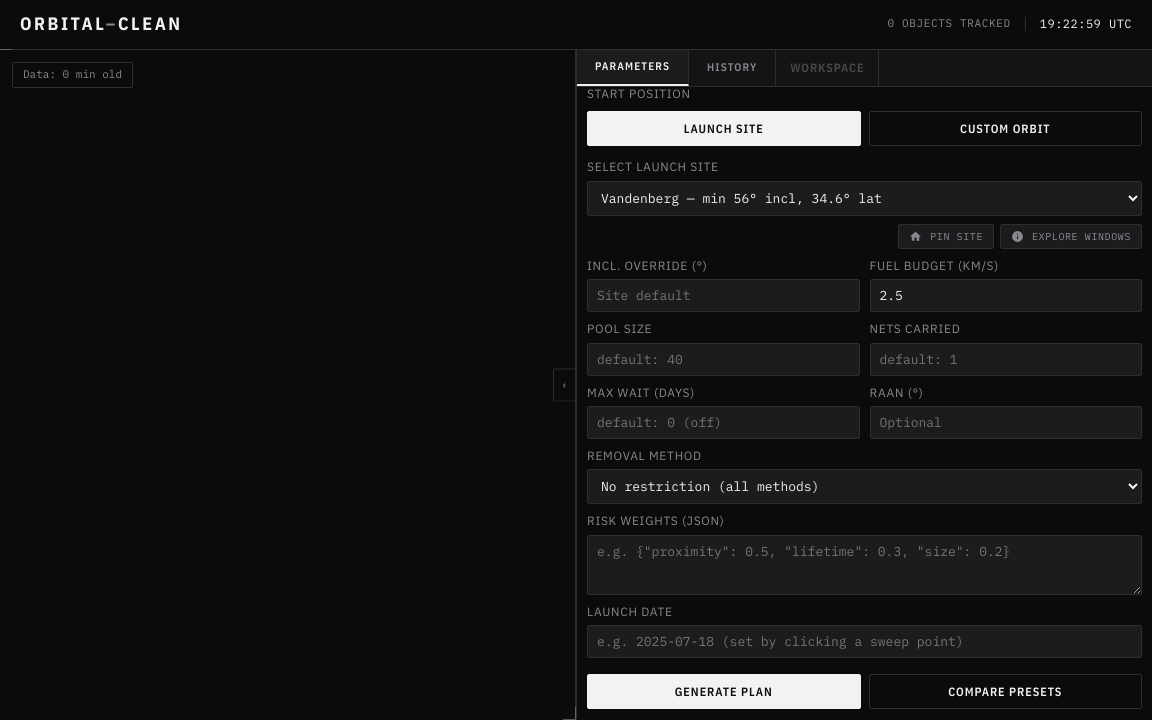
Test: RENDER-rank-c) card border colors in DOM match rank-based assignment › Fuel-Conservative card border is dimmest (#4a4a4e) since it has lowest efficiency in COMPARE_RESULT
(page scrolled)
Click the button "Compare Presets" at (1005, 692), box [868,674,1142,709]
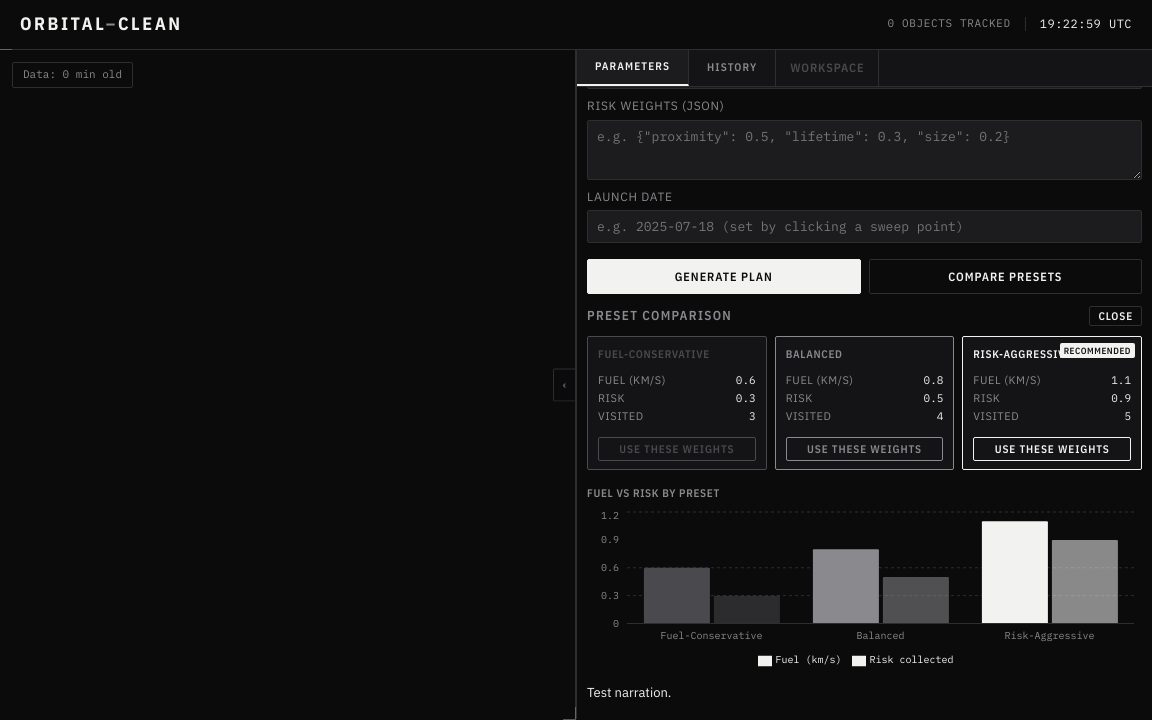
Expected: the element that starts with "Fuel-Conservative" is shown, [587,336,767,470]
